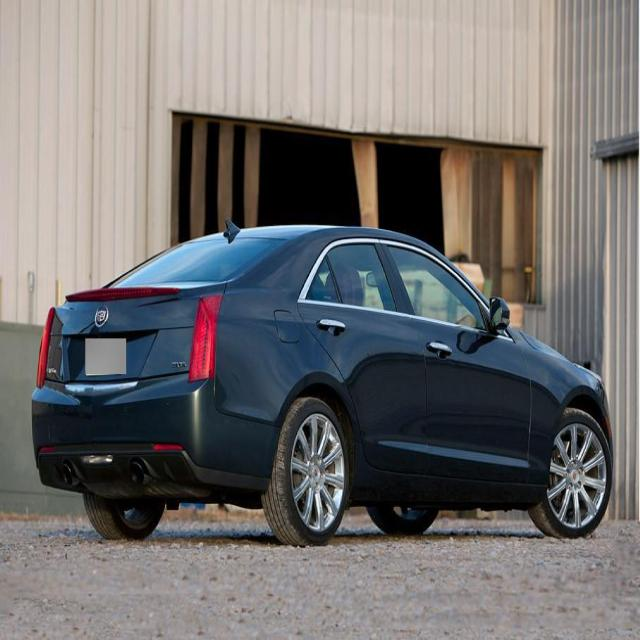back_glass: (92, 226, 290, 298)
back_left_side_light: (28, 300, 69, 400)
back_right_side_light: (188, 283, 225, 388)
door: (294, 230, 428, 490)
front_right_side_door: (384, 231, 534, 488)
front_right_side_mirror: (480, 290, 515, 338)
rear_bumper: (20, 377, 224, 487)
wheel: (258, 382, 353, 558), (531, 403, 624, 540)
